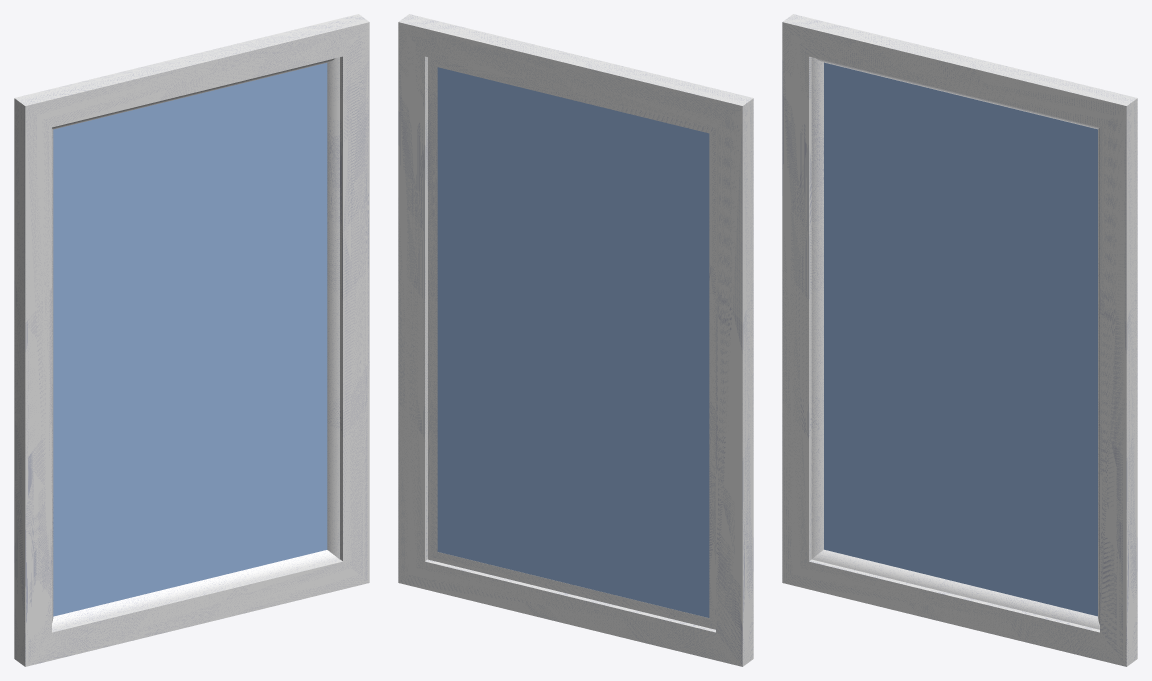
The picture shows the model from 3 angles, left to right: view 1: azimuth 30°, elevation 25°; view 2: azimuth 150°, elevation 25°; view 3: azimuth 330°, elevation 25°; orthographic projection.
Parts seen in each view (by area): view 1: group_2.176, group_4.068, group_1.155; view 2: group_2.176, group_4.068, group_1.155; view 3: group_2.176, group_4.068, group_1.155.
Boxes of the visible parts, x1=… form: group_2.176: x1=53, y1=63, x2=327, y2=616; group_4.068: x1=14, y1=14, x2=369, y2=666; group_1.155: x1=52, y1=57, x2=339, y2=629; group_2.176: x1=437, y1=67, x2=709, y2=617; group_4.068: x1=398, y1=14, x2=753, y2=666; group_1.155: x1=428, y1=57, x2=715, y2=629; group_2.176: x1=824, y1=62, x2=1097, y2=616; group_4.068: x1=782, y1=14, x2=1137, y2=666; group_1.155: x1=811, y1=57, x2=1099, y2=629.
Size of the model in its own units: 0.8858 by 0.0492 by 1.38.
